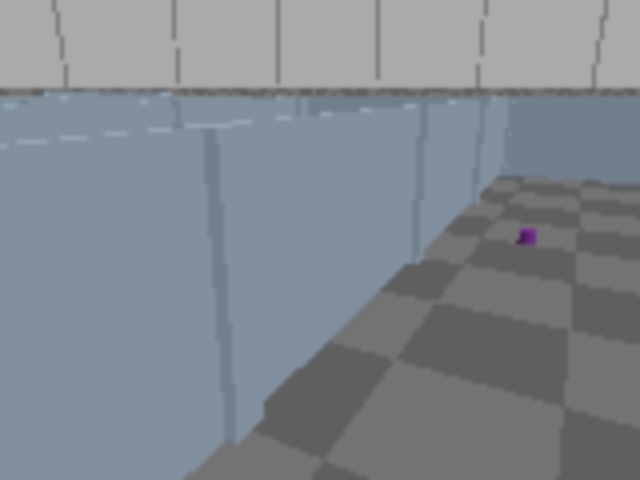puck: (518, 229, 538, 245)
